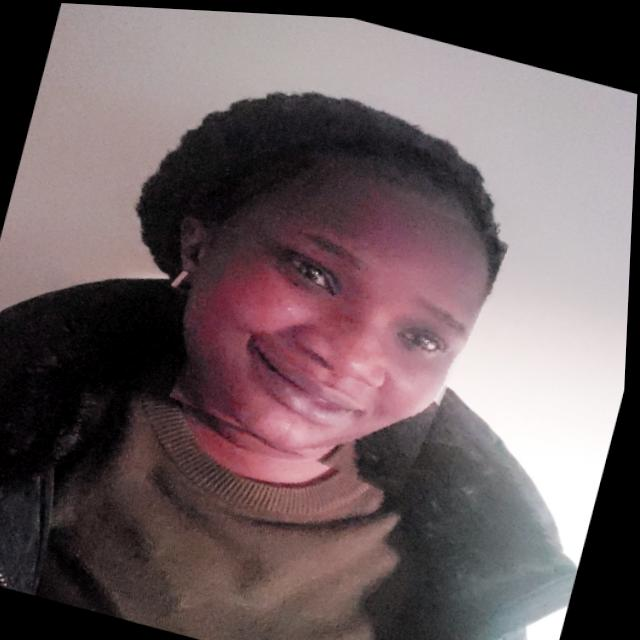happy: (173, 138, 510, 495)
